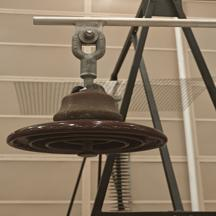insulator: (2, 77, 174, 161)
